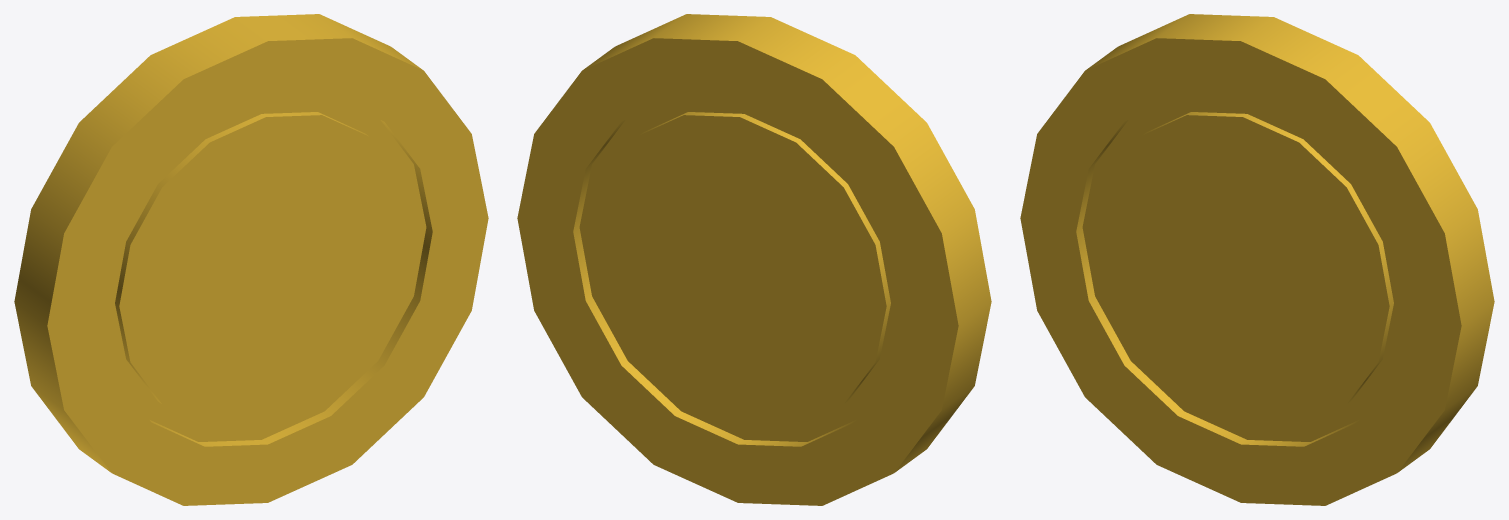
The model's file is coin.fbx.
3 renders of one model, left to right at view 1: azimuth 30°, elevation 25°; view 2: azimuth 150°, elevation 25°; view 3: azimuth 330°, elevation 25°, orthographic.
Visible parts, largest first — view 1: Cylinder; view 2: Cylinder; view 3: Cylinder.
Boxes of the visible parts, x1,y1,x2,y2 form: Cylinder: [14, 14, 488, 505]; Cylinder: [517, 14, 991, 505]; Cylinder: [1020, 14, 1494, 505].
Bounding box in the file's own units: 63.25 × 63.25 × 8.19.
